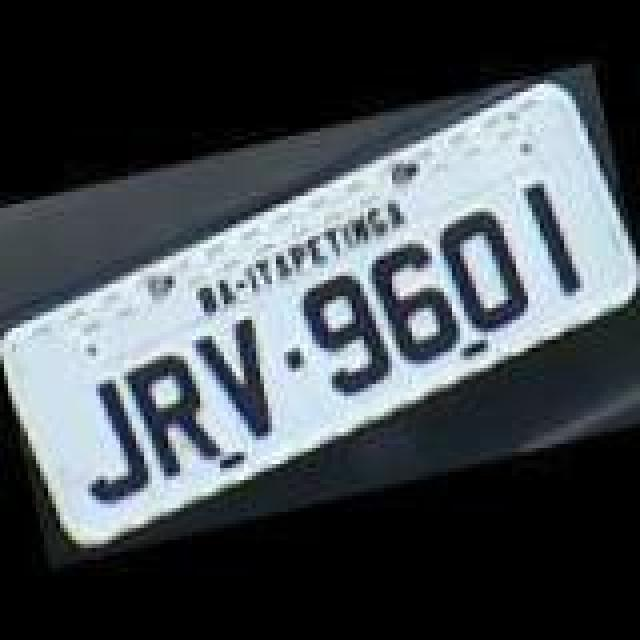1: (516, 172, 588, 304)
6: (362, 234, 470, 374)
9: (288, 268, 392, 404)
J: (60, 368, 164, 508)
O: (434, 206, 534, 342)
R: (122, 346, 222, 482)
V: (192, 308, 288, 456)
